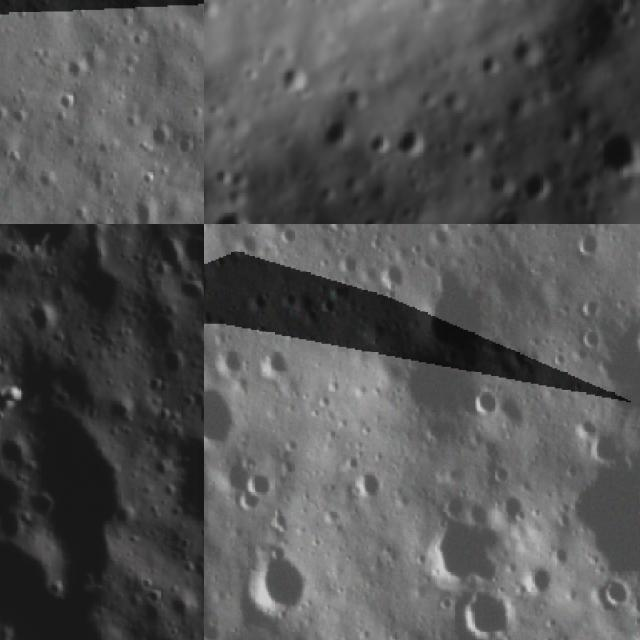crater: (379, 349, 483, 446), (0, 507, 71, 636), (423, 498, 512, 586), (424, 261, 499, 360), (235, 537, 310, 626), (150, 428, 204, 539), (451, 581, 522, 640), (0, 224, 95, 266), (204, 385, 251, 451), (22, 292, 72, 350), (593, 128, 640, 177), (591, 573, 639, 615), (0, 435, 43, 481), (312, 107, 354, 152), (260, 338, 296, 387), (590, 428, 633, 467), (529, 558, 568, 599), (20, 488, 54, 533), (370, 252, 410, 289), (393, 121, 428, 161), (506, 36, 544, 72), (572, 224, 606, 264), (274, 59, 310, 96), (349, 467, 384, 504), (242, 467, 277, 502), (206, 203, 263, 224), (331, 243, 365, 278), (172, 273, 204, 310), (127, 193, 165, 224), (521, 169, 552, 205), (474, 384, 506, 418), (473, 48, 502, 78), (239, 288, 272, 314), (569, 415, 601, 439), (365, 128, 393, 155), (579, 291, 604, 320), (275, 224, 301, 251), (204, 256, 218, 304), (583, 325, 608, 347), (602, 0, 630, 13)
